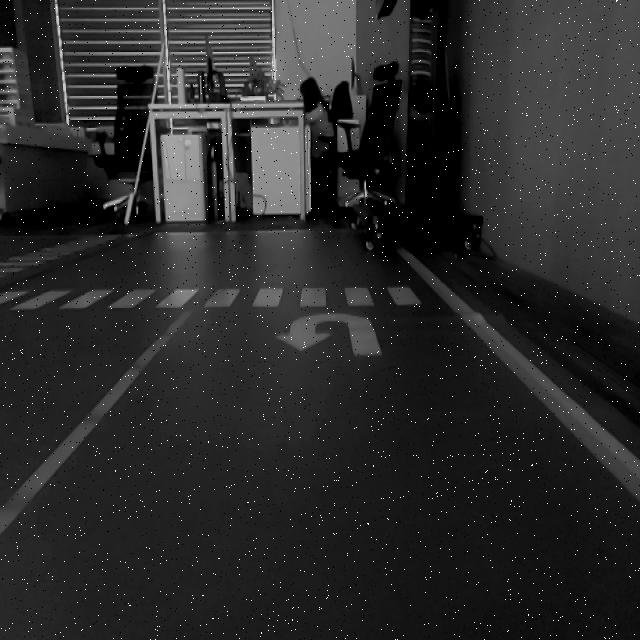left_lane: (0, 308, 193, 536)
right_lane: (392, 234, 640, 500)
